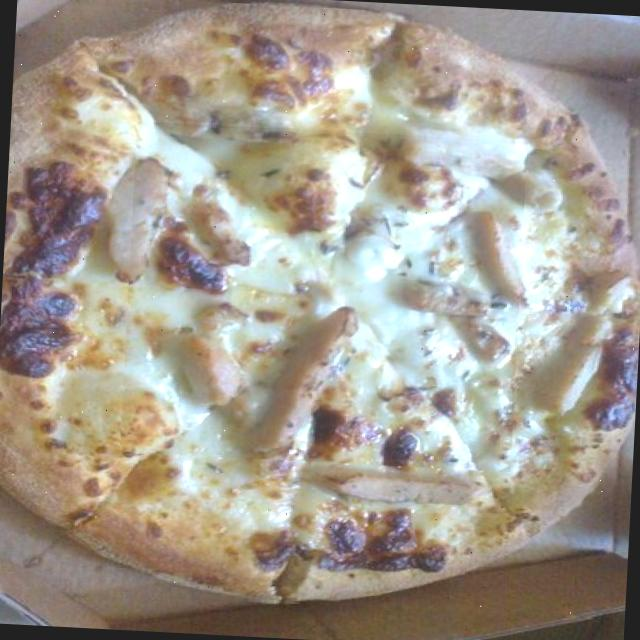cheese: (119, 122, 526, 472)
pizza: (0, 6, 640, 601)
